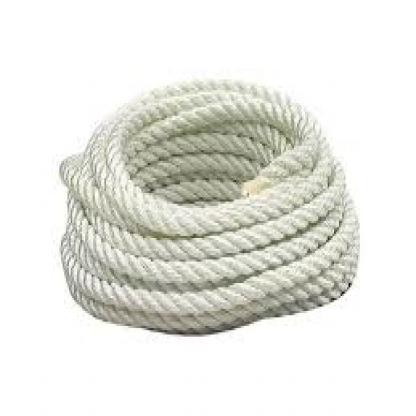Rope: (59, 78, 361, 336)
